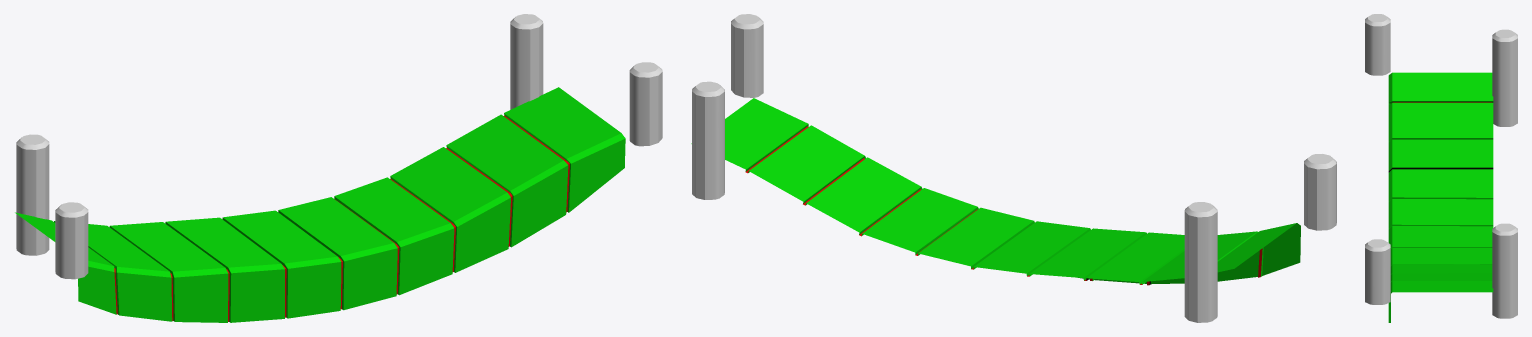
File: Wooden Bridge1.fbx
The picture shows the model from 3 angles, left to right: view 1: azimuth 30°, elevation 25°; view 2: azimuth 150°, elevation 25°; view 3: azimuth 270°, elevation 25°; orthographic projection. The views are drawn at different scales.
Visible parts, largest first — view 1: Wooden_Bridge1, Wooden_Bridge_Beams_1; view 2: Wooden_Bridge1, Wooden_Bridge_Beams_1; view 3: Wooden_Bridge1, Wooden_Bridge_Beams_1.
Boxes of the visible parts, bbox=[...] form: Wooden_Bridge1: bbox=[15, 87, 625, 322]; Wooden_Bridge_Beams_1: bbox=[16, 14, 662, 279]; Wooden_Bridge1: bbox=[691, 98, 1300, 285]; Wooden_Bridge_Beams_1: bbox=[692, 14, 1336, 322]; Wooden_Bridge1: bbox=[1388, 72, 1493, 322]; Wooden_Bridge_Beams_1: bbox=[1365, 14, 1517, 318].
Bounding box in the file's own units: 10.68 × 2.98 × 2.92.
